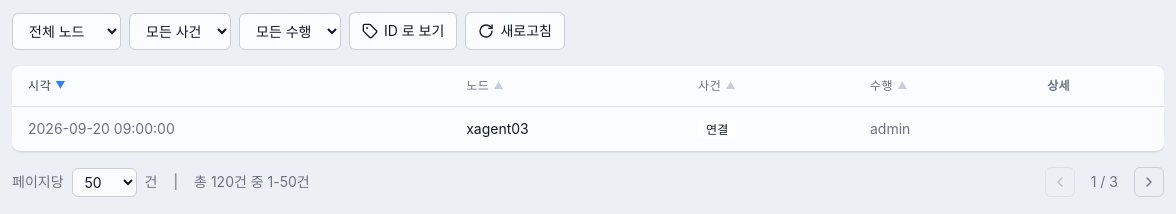
Test: RemoteLogPage — 노드 표기 › 기본은 이름이고, 전환하면 id 로 바뀐다
Click the button with test id "remote-log-node-view-toggle".
click(403, 31)  # box [349, 12, 457, 50]
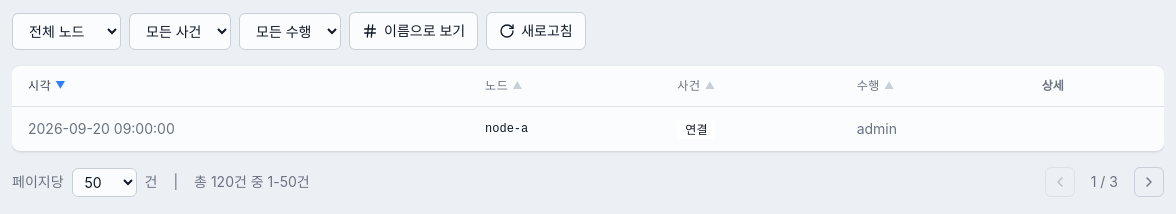
Expected: the table with test id "remote-log-table" shows "node-a", [485, 122, 528, 136]
Expected: the cell with test id "remote-log-table" no longer shows "xagent03"
